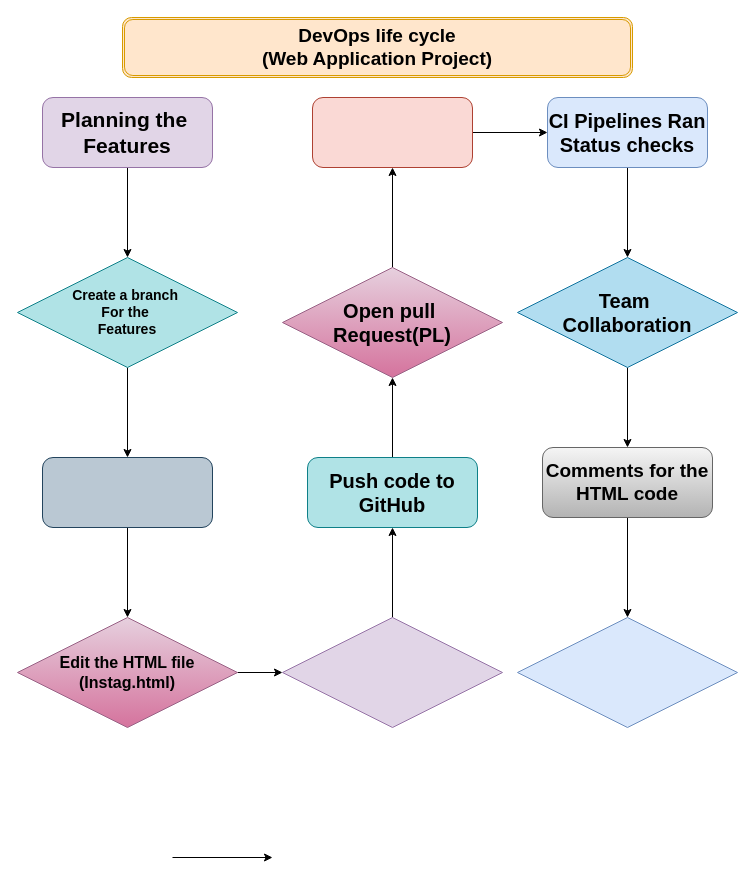
Image size: 755x883. Some labels were removed from this diagram. The shapes that lost their labels are listed below. From the top down, each one's centre as x and y in pixels, then its label:
At pixel 392 132: "Triggered CI Workflows".
At pixel 127 492: "Create separate branches to work Independently".
At pixel 392 672: "Commit the Changes".
At pixel 627 672: "Lifecycle Iteration Continues".
